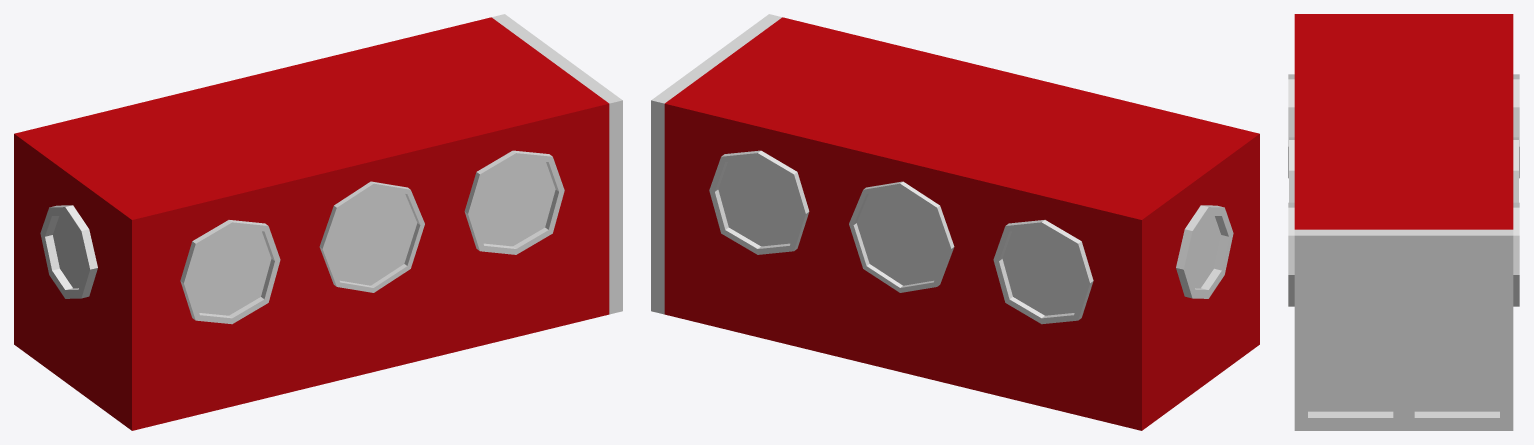
Rendered from standard.fbx.
3 renders of one model, left to right at view 1: azimuth 30°, elevation 25°; view 2: azimuth 150°, elevation 25°; view 3: azimuth 270°, elevation 25°, orthographic. The views are drawn at different scales.
Visible parts, largest first — view 1: base; view 2: base; view 3: base.
Part boxes in pixels (bbox=[...]): base: bbox=[14, 14, 622, 430]; base: bbox=[651, 14, 1259, 430]; base: bbox=[1288, 14, 1519, 430].
Size of the model in its own units: 438 by 177 by 190.
